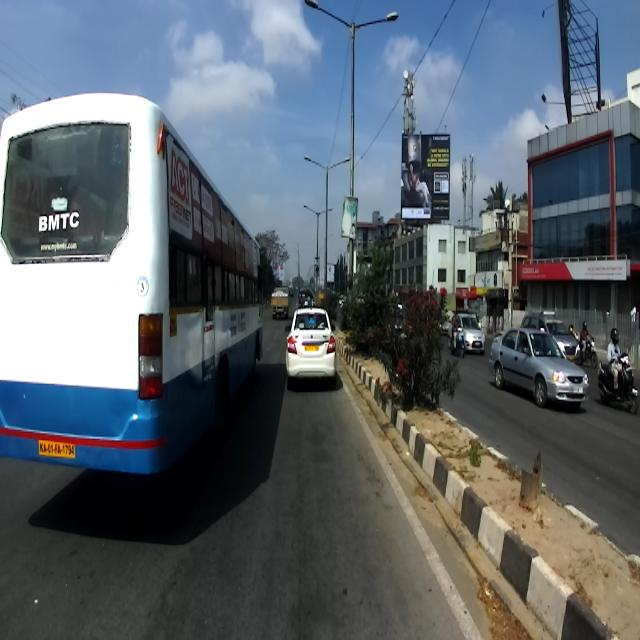bus ahead at: (1, 84, 268, 500)
car ahead at: (284, 299, 342, 388)
